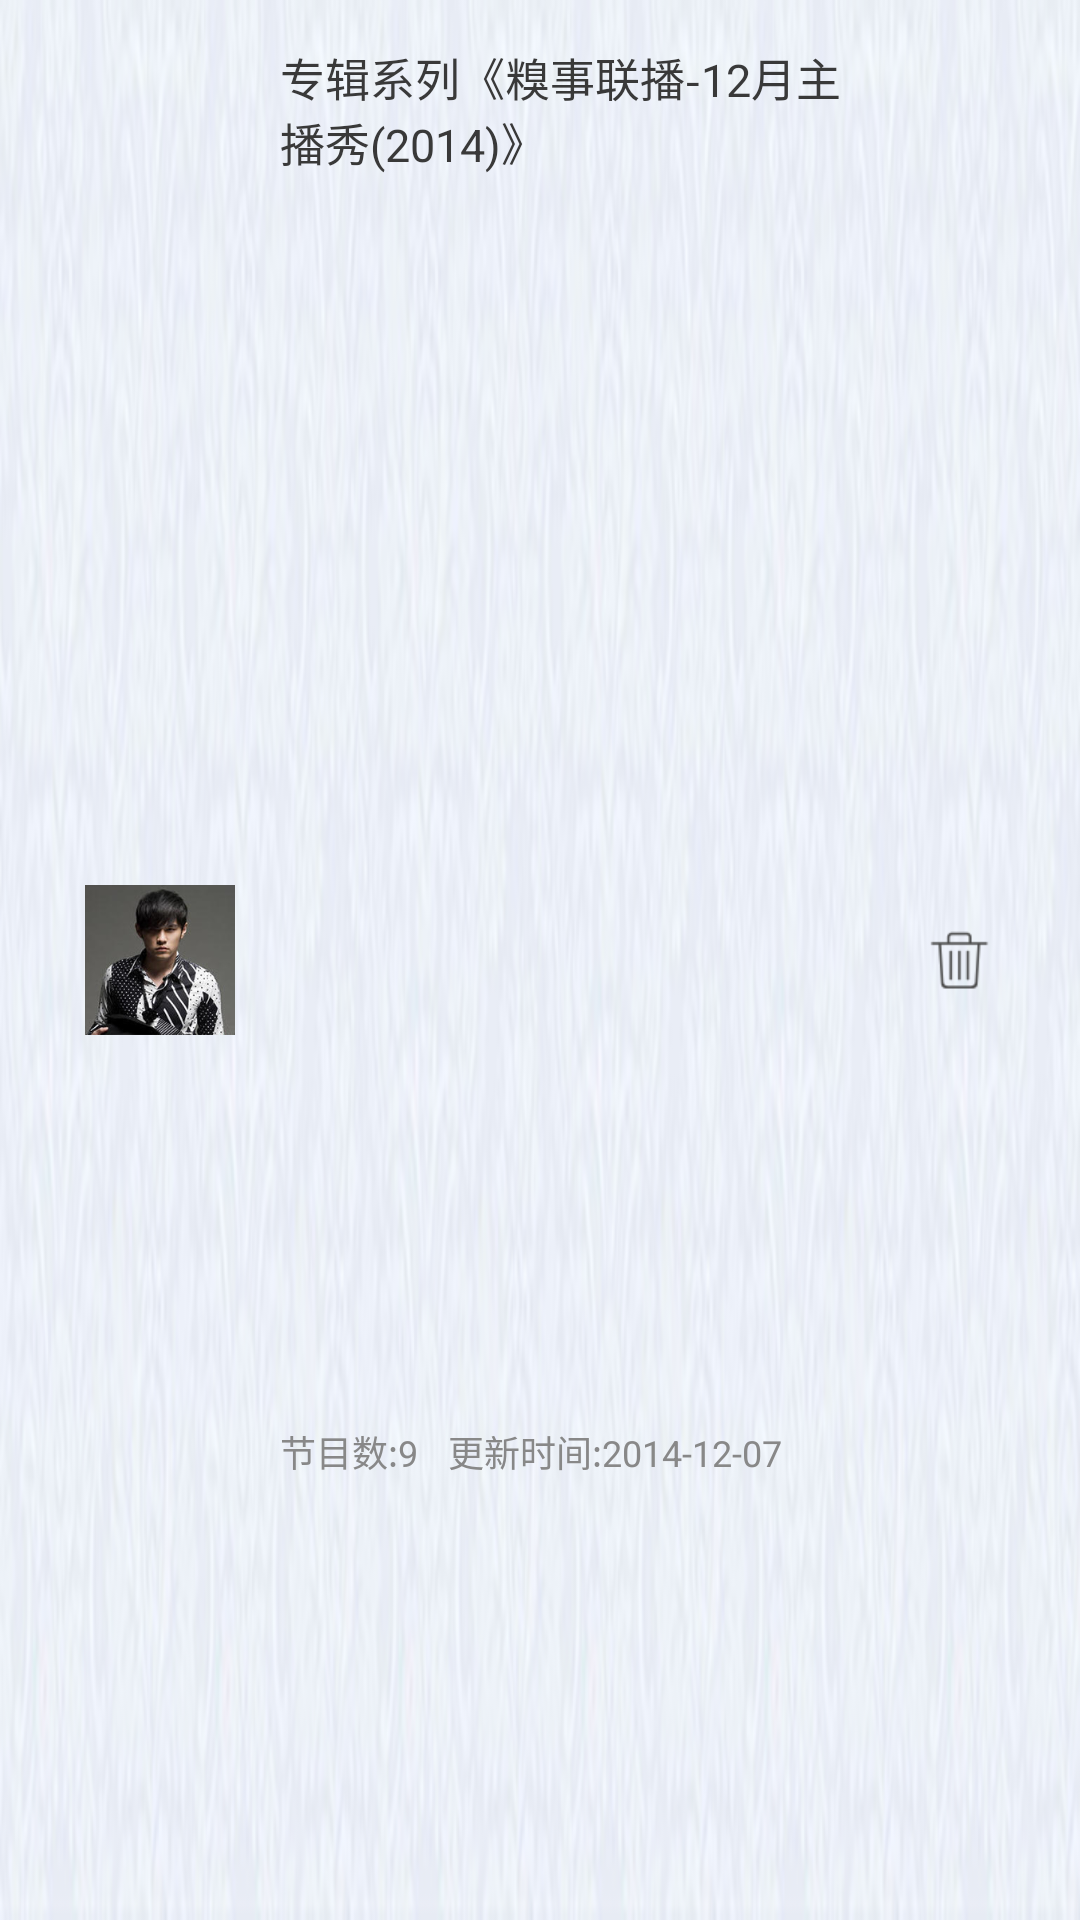

Screen size 1080w x 1920h. Icon name, then its box in pixels as bbox=(x1, y1, x2, y2):
ji dele: bbox=(931, 931, 988, 989)
